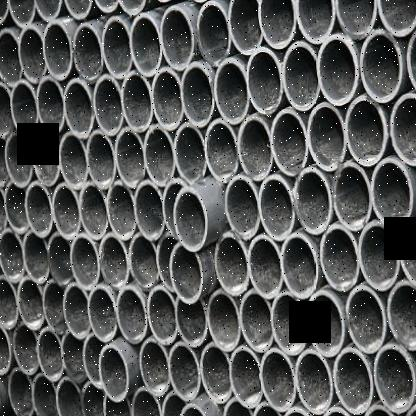pipe: (360, 29, 403, 104), (370, 157, 414, 229), (346, 95, 388, 166), (358, 220, 400, 291), (374, 345, 416, 415), (318, 34, 358, 106), (332, 162, 372, 231), (345, 286, 386, 353), (334, 347, 374, 415), (308, 102, 346, 172), (306, 290, 345, 358), (283, 41, 320, 111), (320, 224, 358, 292), (295, 167, 332, 235), (271, 110, 308, 177), (258, 174, 295, 241), (295, 350, 333, 415), (281, 233, 318, 299), (247, 47, 282, 115), (260, 347, 296, 413), (196, 0, 231, 67), (247, 235, 283, 299), (271, 291, 307, 355), (173, 187, 208, 252), (214, 58, 249, 123), (238, 116, 273, 180), (225, 176, 260, 240), (214, 232, 249, 296), (385, 279, 416, 351), (161, 5, 194, 71), (169, 243, 204, 304), (181, 62, 213, 127), (240, 289, 273, 352), (229, 345, 262, 408), (206, 118, 238, 182), (174, 122, 207, 184), (151, 68, 183, 131), (208, 290, 240, 351), (390, 92, 416, 166), (144, 124, 175, 186), (201, 342, 232, 404), (131, 14, 162, 76), (102, 17, 133, 79), (168, 342, 200, 402), (258, 0, 296, 50), (228, 0, 262, 55), (122, 72, 152, 132), (115, 128, 145, 188), (73, 23, 103, 83), (94, 74, 123, 136), (139, 338, 170, 396), (98, 344, 129, 402), (64, 79, 94, 138), (43, 21, 73, 80), (135, 180, 164, 241), (116, 287, 147, 344), (336, 0, 378, 41), (107, 181, 136, 240), (296, 0, 334, 45), (36, 76, 65, 134), (59, 132, 88, 190), (147, 286, 176, 344), (87, 286, 117, 342), (31, 129, 60, 186), (87, 130, 115, 189), (80, 181, 108, 240), (162, 179, 189, 240), (10, 80, 38, 138), (99, 234, 128, 290), (18, 26, 47, 82), (129, 234, 159, 288), (175, 297, 207, 347), (52, 183, 80, 240), (70, 235, 99, 289), (25, 181, 52, 238), (5, 132, 32, 188), (63, 283, 90, 339), (376, 0, 416, 37), (47, 232, 74, 286), (37, 328, 64, 382), (17, 276, 43, 330), (23, 231, 49, 284), (43, 279, 67, 334), (398, 216, 416, 289), (0, 26, 23, 83), (61, 330, 86, 382), (14, 322, 38, 376), (156, 232, 177, 292), (0, 228, 23, 282), (8, 367, 33, 416), (5, 181, 28, 234), (83, 334, 104, 390), (32, 373, 58, 416), (55, 376, 82, 416), (0, 275, 18, 329), (131, 386, 162, 416), (82, 380, 105, 416), (7, 0, 35, 28), (161, 392, 188, 416), (220, 396, 252, 416), (33, 0, 62, 20), (0, 322, 11, 374), (64, 0, 92, 20), (117, 0, 149, 17), (178, 399, 208, 416), (251, 400, 282, 416), (319, 405, 355, 416), (360, 406, 398, 416), (94, 0, 119, 15), (280, 407, 313, 416)
